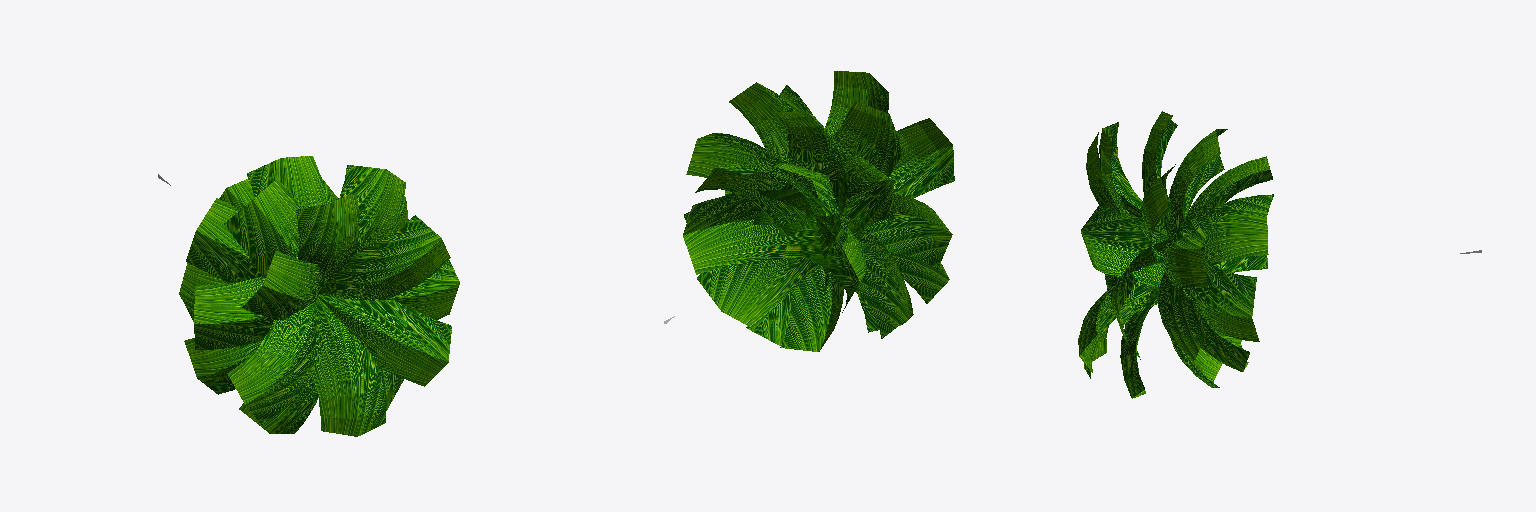
3 renders of one model, left to right at view 1: azimuth 30°, elevation 25°; view 2: azimuth 150°, elevation 25°; view 3: azimuth 270°, elevation 25°, orthographic.
Parts seen in each view (by area): view 1: palm_folhas.001; view 2: palm_folhas.001; view 3: palm_folhas.001.
Part boxes in pixels (x1,y1,x2,y2): palm_folhas.001: (158, 156, 459, 436); palm_folhas.001: (664, 71, 954, 351); palm_folhas.001: (1078, 111, 1481, 398).
Size of the model in its own units: 7.3 by 7.05 by 10.34.
Materials: 2 (1 with a texture image).